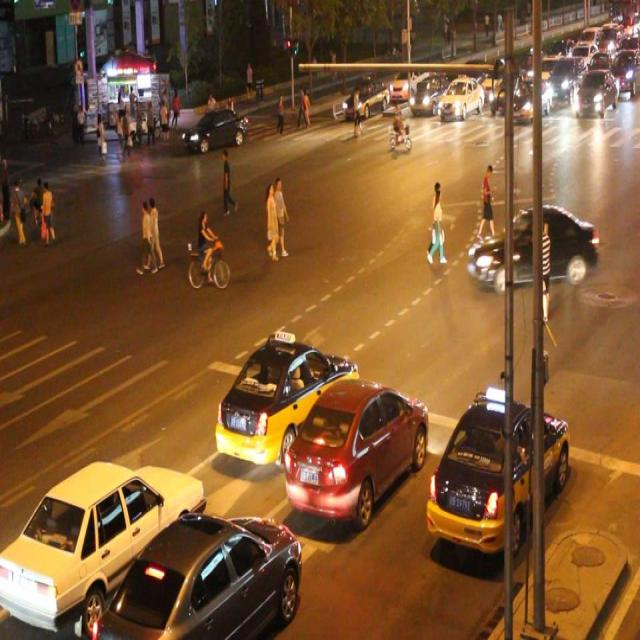car: (1, 456, 203, 627), (91, 514, 300, 640), (428, 396, 568, 552), (287, 379, 428, 525), (216, 339, 356, 466), (465, 204, 596, 288), (183, 106, 246, 150), (437, 76, 483, 120), (344, 75, 388, 117), (410, 70, 446, 114)
